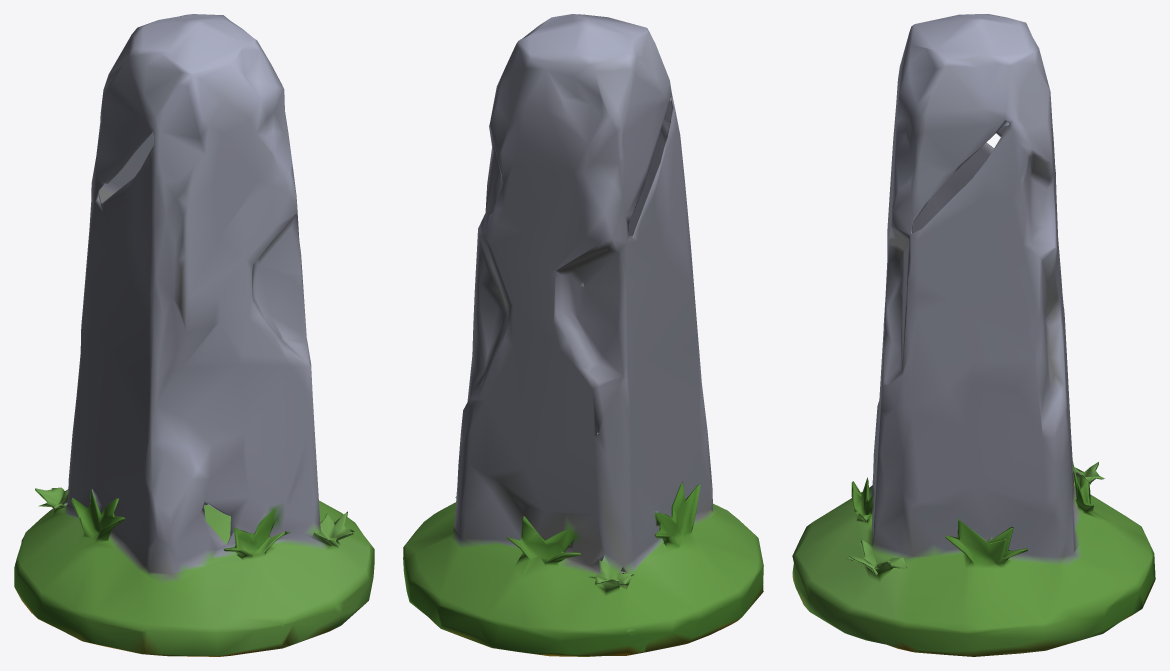
File: gen3d-standing-stone-lod0.glb
The picture shows the model from 3 angles, left to right: view 1: azimuth 30°, elevation 25°; view 2: azimuth 150°, elevation 25°; view 3: azimuth 270°, elevation 25°; orthographic projection.
Visible parts, largest first — view 1: part_0; view 2: part_0; view 3: part_0.
Boxes of the visible parts, x1,y1,x2,y2 form: part_0: [14, 14, 374, 656]; part_0: [403, 14, 763, 656]; part_0: [792, 14, 1155, 656].
Bounding box in the file's own units: 0.5859 × 0.9966 × 0.5852.
